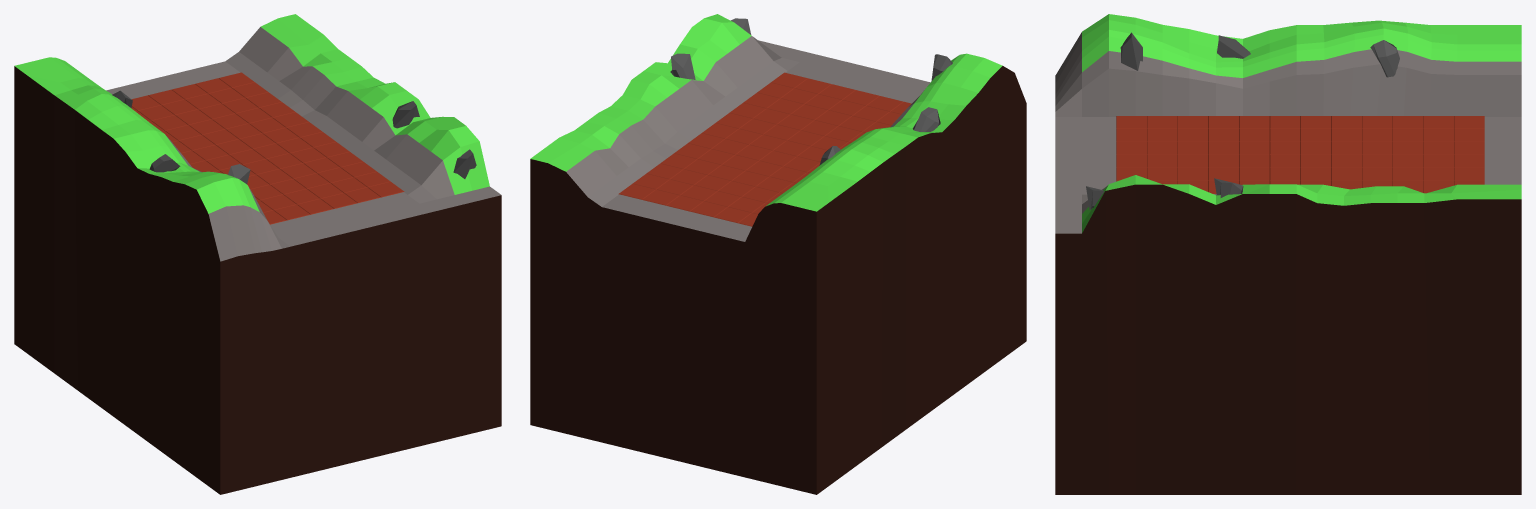
The model's file is lvl1.fbx.
The picture shows the model from 3 angles, left to right: view 1: azimuth 30°, elevation 25°; view 2: azimuth 150°, elevation 25°; view 3: azimuth 270°, elevation 25°; orthographic projection. The views are drawn at different scales.
Visible parts, largest first — view 1: lvl1, Plane, rocks; view 2: lvl1, Plane, rocks; view 3: lvl1, Plane, rocks.
Boxes of the visible parts, x1,y1,x2,y2 form: lvl1: (14,14,501,494); Plane: (131,72,404,224); rocks: (112,90,476,184); lvl1: (530,14,1026,494); Plane: (618,72,911,226); rocks: (670,18,952,165); lvl1: (1055,14,1521,494); Plane: (1116,116,1484,193); rocks: (1086,32,1399,209).
Size of the model in its own units: 2415 by 2385 by 3038.
